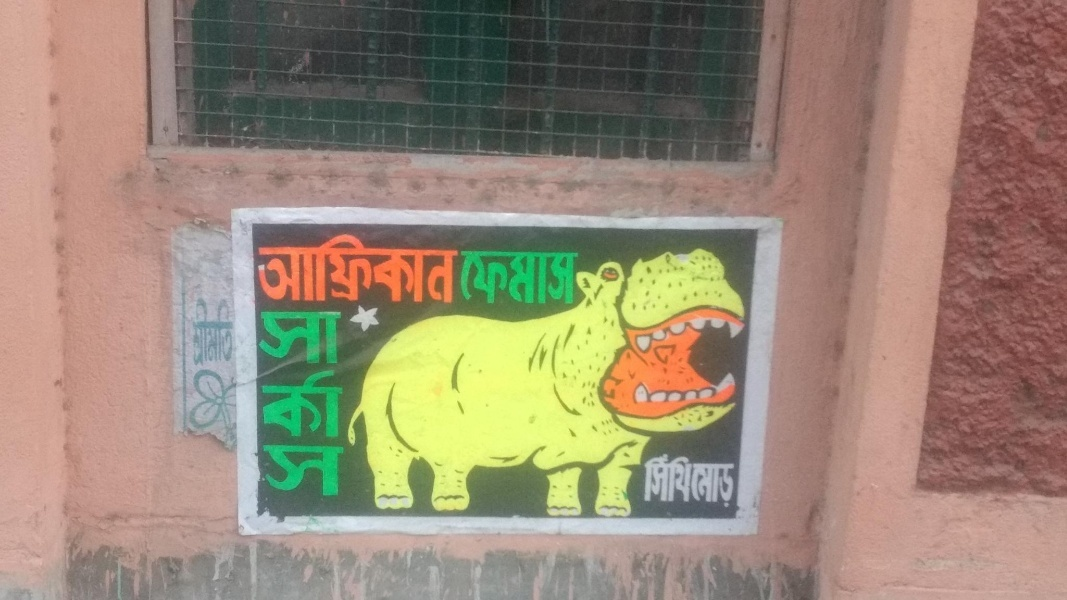text: (273, 308, 288, 502), (289, 308, 304, 502), (305, 308, 320, 502), (321, 308, 336, 502), (258, 308, 272, 502), (337, 308, 348, 502), (257, 234, 272, 308), (273, 234, 288, 308), (289, 234, 304, 308), (305, 234, 320, 308), (321, 234, 336, 308), (337, 234, 352, 308), (353, 234, 368, 308), (369, 234, 384, 308), (385, 234, 400, 308), (401, 234, 416, 308), (417, 234, 432, 308), (433, 234, 448, 308), (193, 295, 208, 369), (209, 295, 224, 369), (225, 295, 240, 369), (657, 445, 672, 509), (673, 445, 688, 509), (689, 445, 704, 509), (705, 445, 720, 509), (721, 445, 736, 509), (465, 246, 480, 308), (481, 246, 496, 308), (497, 246, 512, 308), (513, 246, 528, 308), (529, 246, 544, 308), (545, 246, 560, 308), (561, 246, 576, 308), (449, 234, 460, 308), (645, 445, 656, 509), (186, 295, 192, 369), (577, 246, 582, 308), (460, 246, 464, 308), (254, 234, 256, 308), (737, 445, 739, 509)
